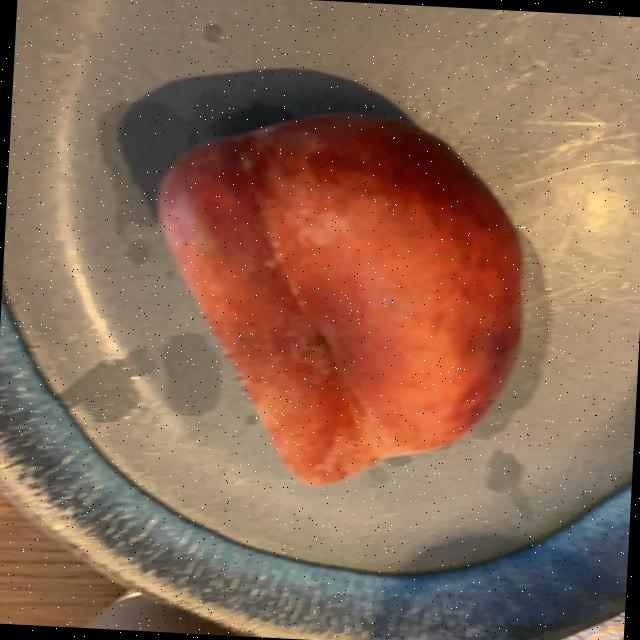peach: (161, 115, 522, 479)
